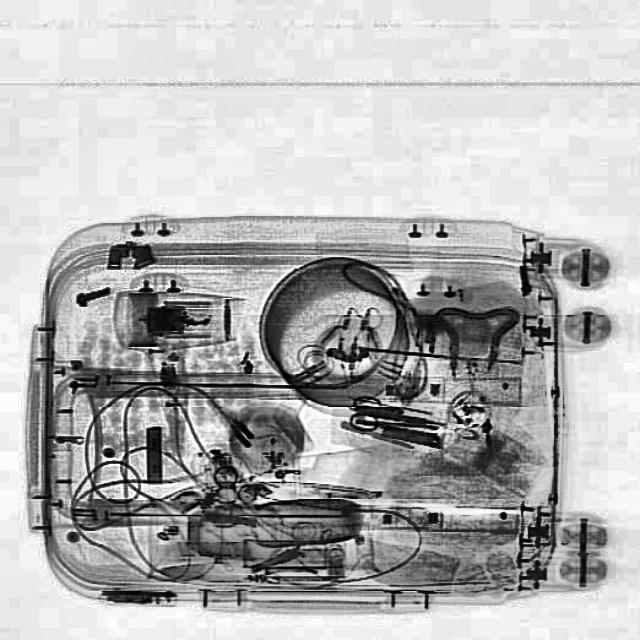Scissors: (349, 394, 441, 444)
